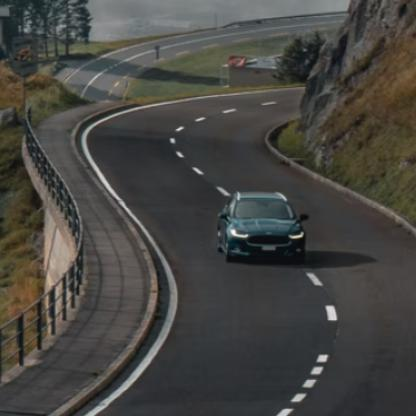vehicle: (216, 190, 311, 263)
